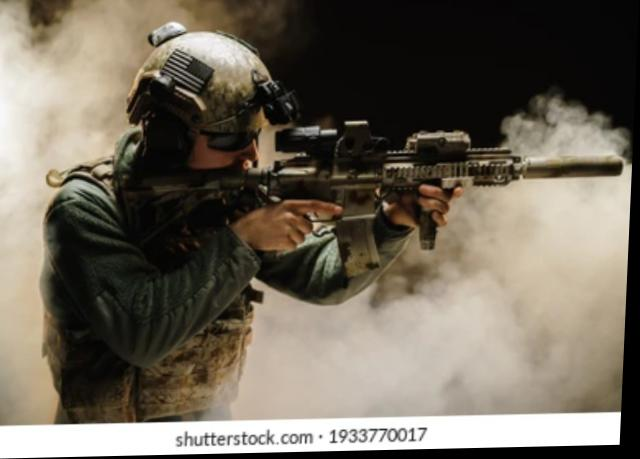other: (48, 47, 329, 415)
